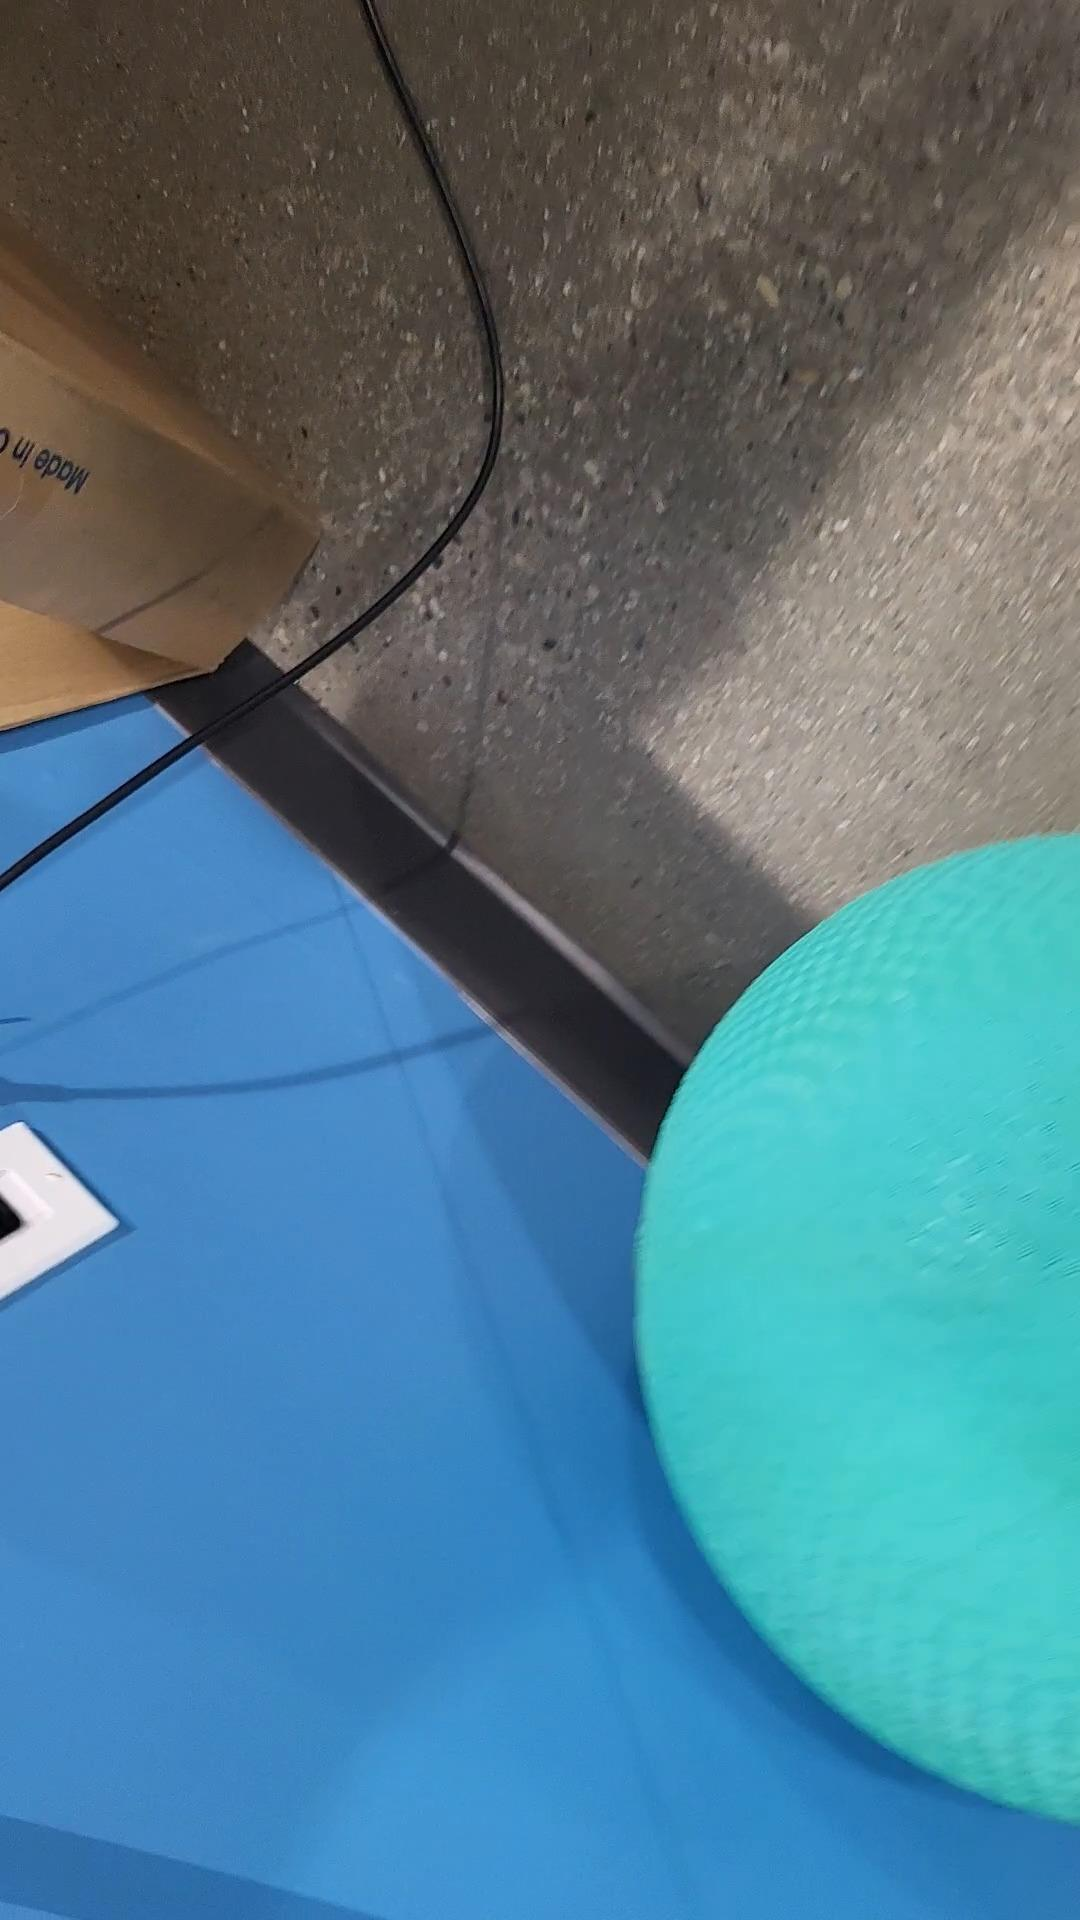algae: (636, 829, 1080, 1836)
